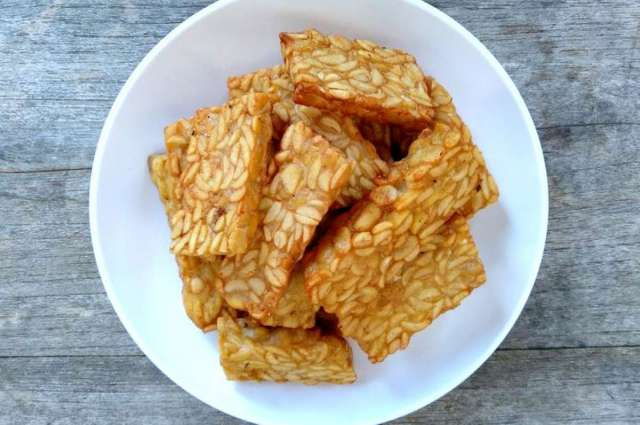Tempe: (286, 137, 493, 299), (345, 245, 473, 365), (154, 111, 266, 236), (215, 327, 355, 394), (274, 44, 423, 103)
